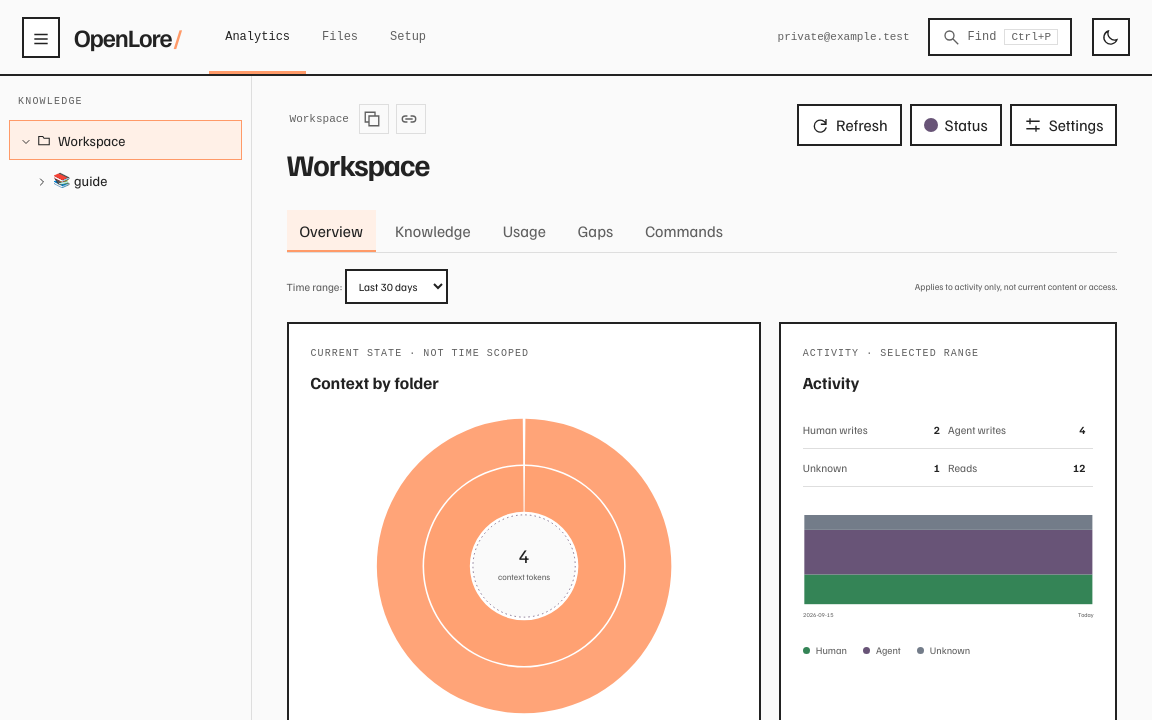
completed scans retain oversized-file warnings
Click the button with aria-label "Analytics status" at (956,125), box [910,104,1002,146]
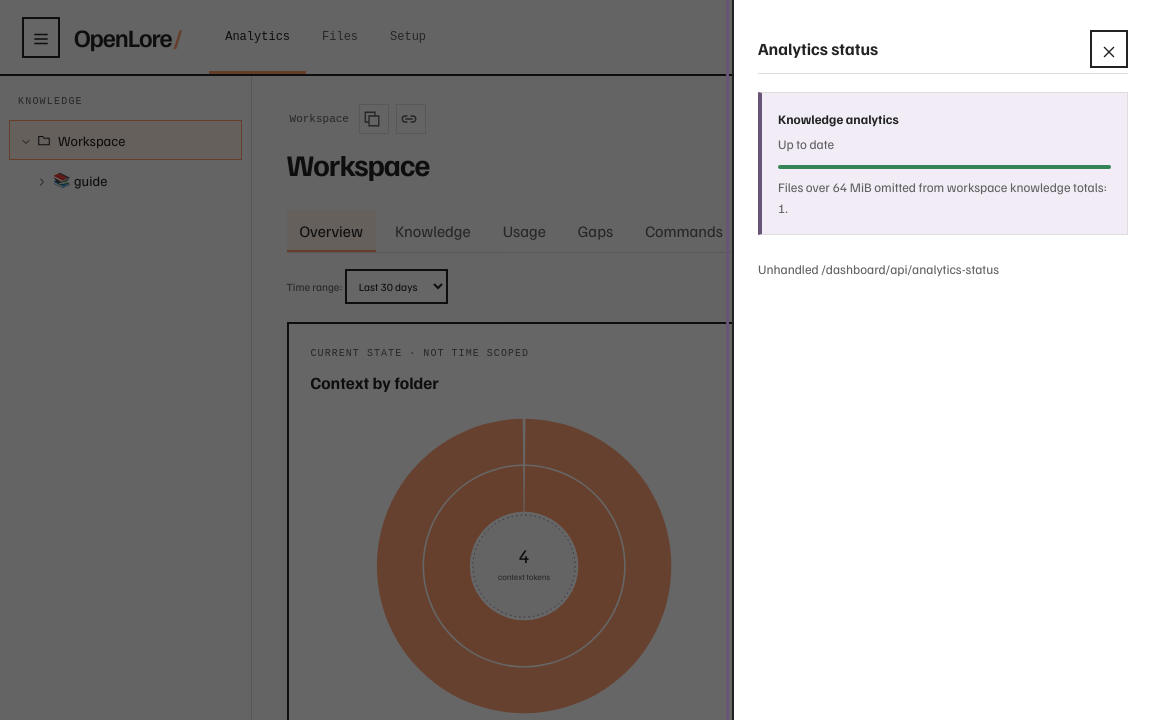
Expected: the text "Files over 64 MiB omitted" is shown, [778,179,1107,216]
